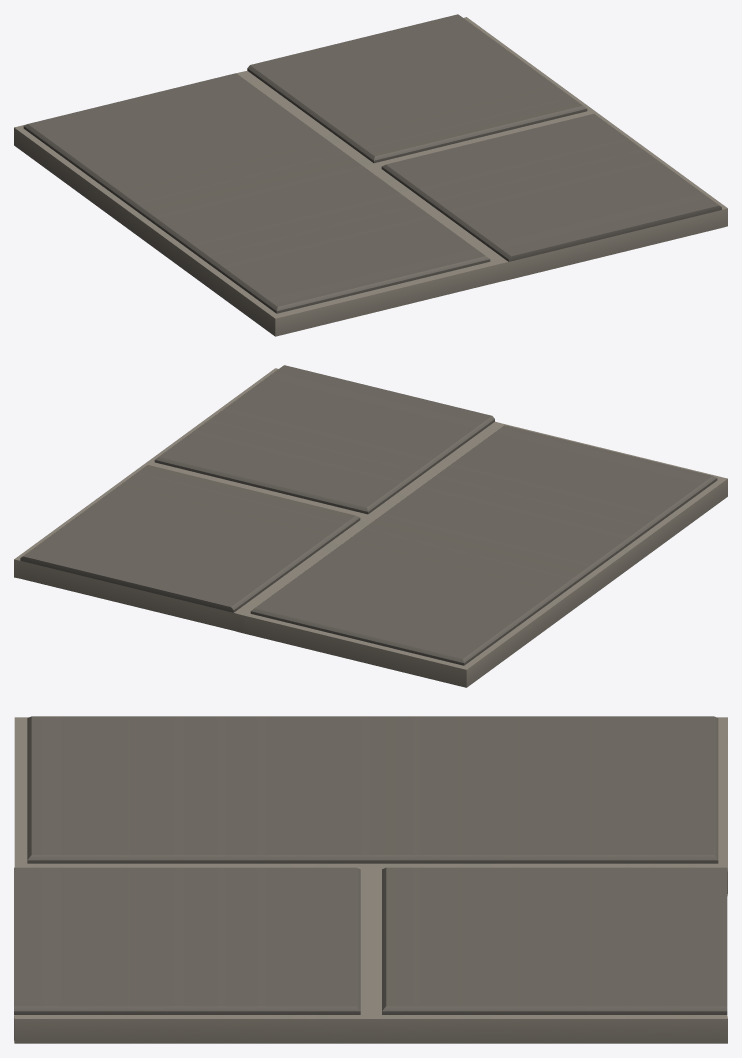
Rendered from Laatta.fbx.
3 renders of one model, top to bottom at view 1: azimuth 30°, elevation 25°; view 2: azimuth 150°, elevation 25°; view 3: azimuth 270°, elevation 25°, orthographic. The views are drawn at different scales.
Visible parts, largest first — view 1: pCube14; view 2: pCube14; view 3: pCube14.
Boxes of the visible parts, bbox=[...] form: pCube14: bbox=[14, 14, 727, 336]; pCube14: bbox=[14, 365, 727, 687]; pCube14: bbox=[14, 716, 727, 1043].
Size of the model in its own units: 1 by 0.0487 by 1.
1 material, 1 textured.
